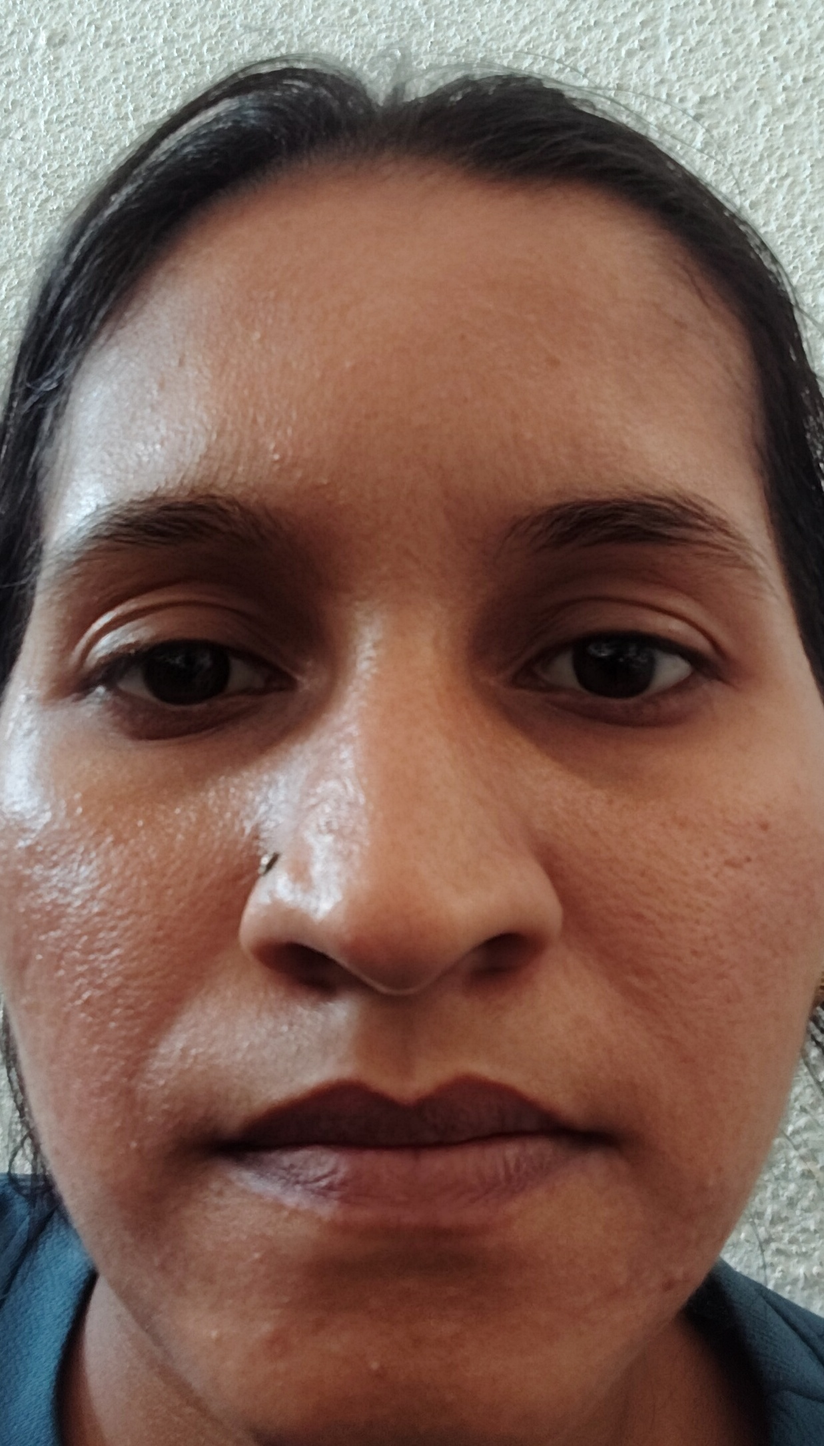closed_comedone: (241, 1302, 301, 1369), (356, 1330, 399, 1392)
pustule: (571, 1242, 633, 1309), (654, 1237, 704, 1318)
